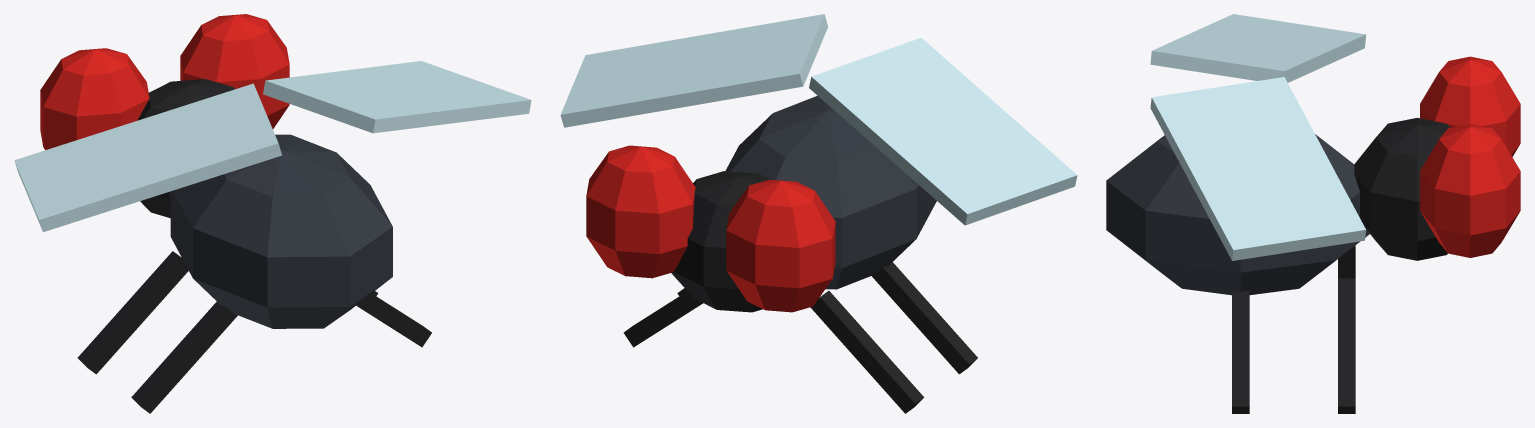
File: enemy_fly.glb
3 renders of one model, left to right at view 1: azimuth 30°, elevation 25°; view 2: azimuth 150°, elevation 25°; view 3: azimuth 270°, elevation 25°, orthographic.
Visible parts, largest first — view 1: enemy_fly; view 2: enemy_fly; view 3: enemy_fly.
Part boxes in pixels (x1,y1,x2,y2): enemy_fly: (14,14,531,413); enemy_fly: (560,14,1077,413); enemy_fly: (1106,14,1520,413).
Size of the model in its own units: 0.3164 by 0.1715 by 0.2346.
1 material, 1 textured.
